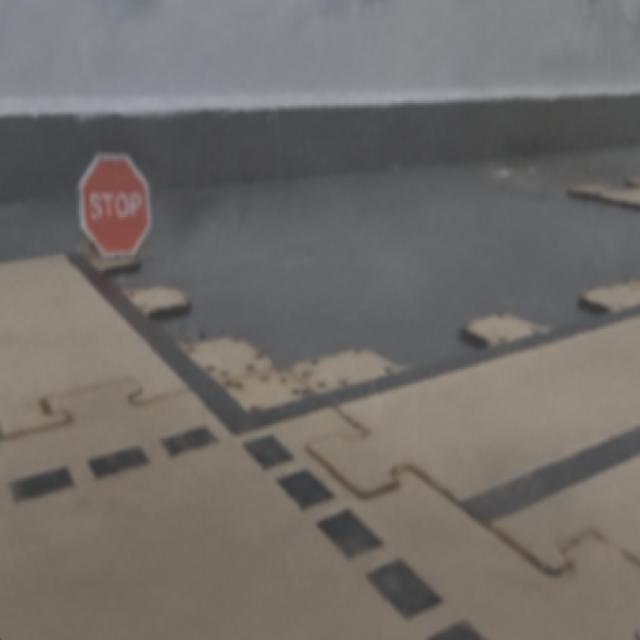STOP: (79, 154, 151, 257)
